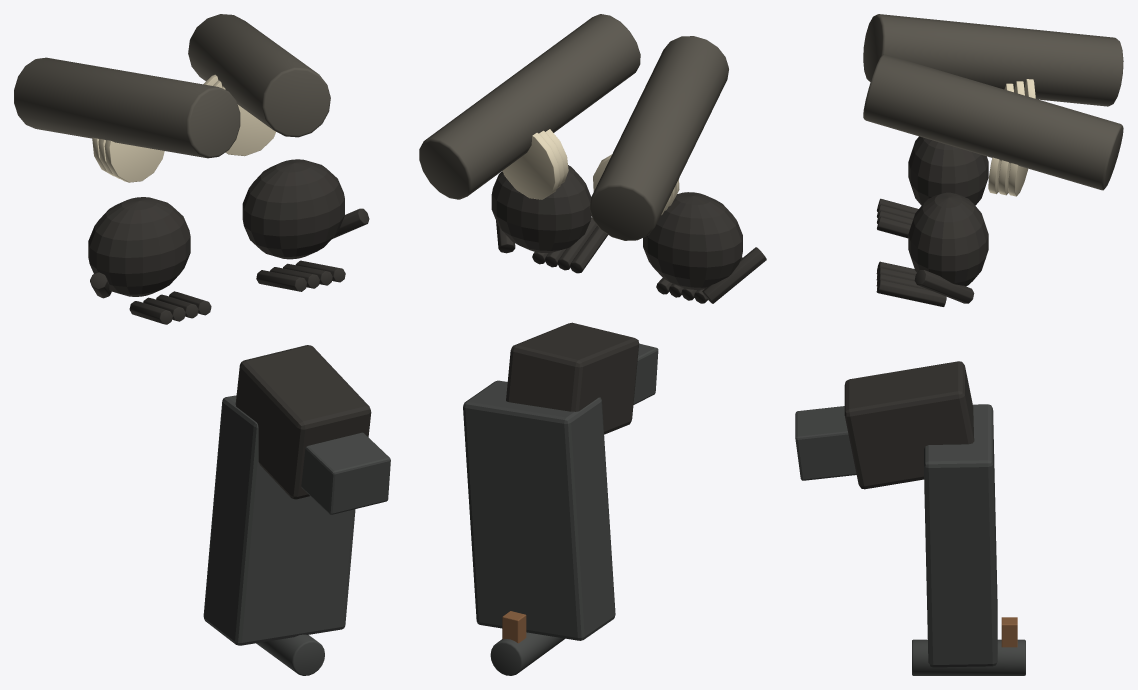
The model's file is dz_fps_pistol_gloved_premium.glb.
3 renders of one model, left to right at view 1: azimuth 30°, elevation 25°; view 2: azimuth 150°, elevation 25°; view 3: azimuth 270°, elevation 25°, orthographic. The views are drawn at different scales.
Visible parts, largest first — view 1: compact_pistol_slide_chipped, left_forearm_wrapped, compact_pistol_grip_worn, right_forearm_wrapped, right_gloved_palm, left_gloved_palm, pistol_magazine_exposed, wrist_tape_-1_0, compact_pistol_barrel_dark, wrist_tape_1_0, finger_1_0, finger_-1_3; view 2: compact_pistol_slide_chipped, right_forearm_wrapped, left_forearm_wrapped, compact_pistol_grip_worn, left_gloved_palm, right_gloved_palm, wrist_tape_1_2, compact_pistol_barrel_dark, pistol_magazine_exposed, thumb_-1, finger_1_0, pistol_front_sight (+1 smaller); view 3: right_forearm_wrapped, compact_pistol_slide_chipped, left_forearm_wrapped, compact_pistol_grip_worn, right_gloved_palm, left_gloved_palm, pistol_magazine_exposed, compact_pistol_barrel_dark, thumb_1, finger_1_3, pistol_front_sight.
Boxes of the visible parts, box(x1,y1,x2,y2) form: compact_pistol_slide_chipped: box(203, 395, 355, 645); left_forearm_wrapped: box(14, 57, 240, 158); compact_pistol_grip_worn: box(235, 345, 371, 499); right_forearm_wrapped: box(188, 14, 330, 137); right_gloved_palm: box(242, 159, 344, 259); left_gloved_palm: box(88, 197, 190, 296); pistol_magazine_exposed: box(301, 432, 390, 514); wrist_tape_-1_0: box(104, 140, 164, 182); compact_pistol_barrel_dark: box(256, 634, 324, 675); wrist_tape_1_0: box(221, 86, 275, 156); finger_1_0: box(256, 270, 306, 291); finger_-1_3: box(129, 301, 172, 324); compact_pistol_slide_chipped: box(463, 380, 615, 640); right_forearm_wrapped: box(419, 14, 640, 199); left_forearm_wrapped: box(589, 36, 728, 240); compact_pistol_grip_worn: box(506, 322, 639, 434); left_gloved_palm: box(643, 192, 742, 289); right_gloved_palm: box(491, 165, 591, 252); wrist_tape_1_2: box(502, 132, 559, 199); compact_pistol_barrel_dark: box(490, 632, 564, 675); pistol_magazine_exposed: box(633, 343, 658, 404); thumb_-1: box(702, 247, 766, 303); finger_1_0: box(570, 226, 607, 273); pistol_front_sight: box(502, 611, 526, 643); right_forearm_wrapped: box(863, 54, 1123, 190); compact_pistol_slide_chipped: box(924, 404, 997, 667); left_forearm_wrapped: box(863, 14, 1123, 106); compact_pistol_grip_worn: box(844, 361, 974, 489); right_gloved_palm: box(908, 192, 988, 286); left_gloved_palm: box(908, 136, 988, 205); pistol_magazine_exposed: box(795, 406, 856, 480); compact_pistol_barrel_dark: box(912, 639, 1025, 675); thumb_1: box(914, 270, 974, 303); finger_1_3: box(876, 279, 946, 306); pistol_front_sight: box(1001, 617, 1017, 647).
Size of the model in its own units: 0.7554 by 1.63 by 0.8048.
